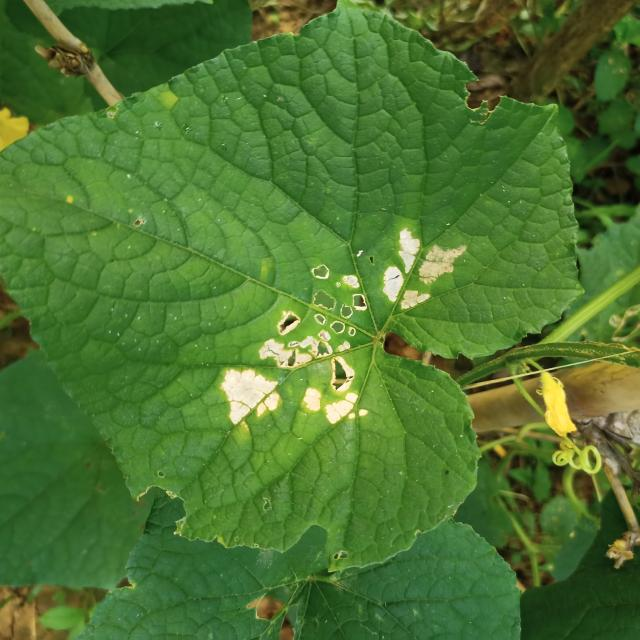disease_cucumber: (200, 253, 371, 448), (375, 225, 469, 314)
